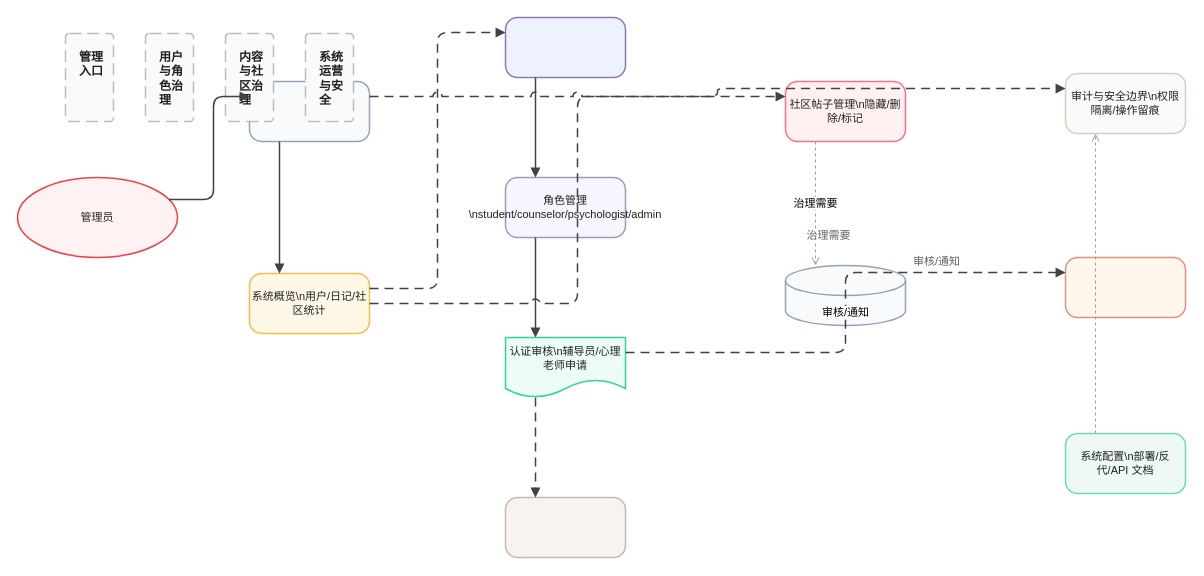
The diagram is 1204 pixels wide and 576 high, and some of its shapes have lost their labels. The shapes that lost their labels are listed below. From the top down, each one's centre as x and y in pixels, then its label:
the point at 565,47: 用户管理\n搜索/筛选/启停账号
the point at 309,111: 管理后台入口\nAdminRoute 权限守卫
the point at 845,295: 匿名真实身份查看\n仅管理员治理使用
the point at 1125,287: 邮件与定时任务\n验证码/周报推送
the point at 565,527: 负责范围维护\n院系/班级绑定
